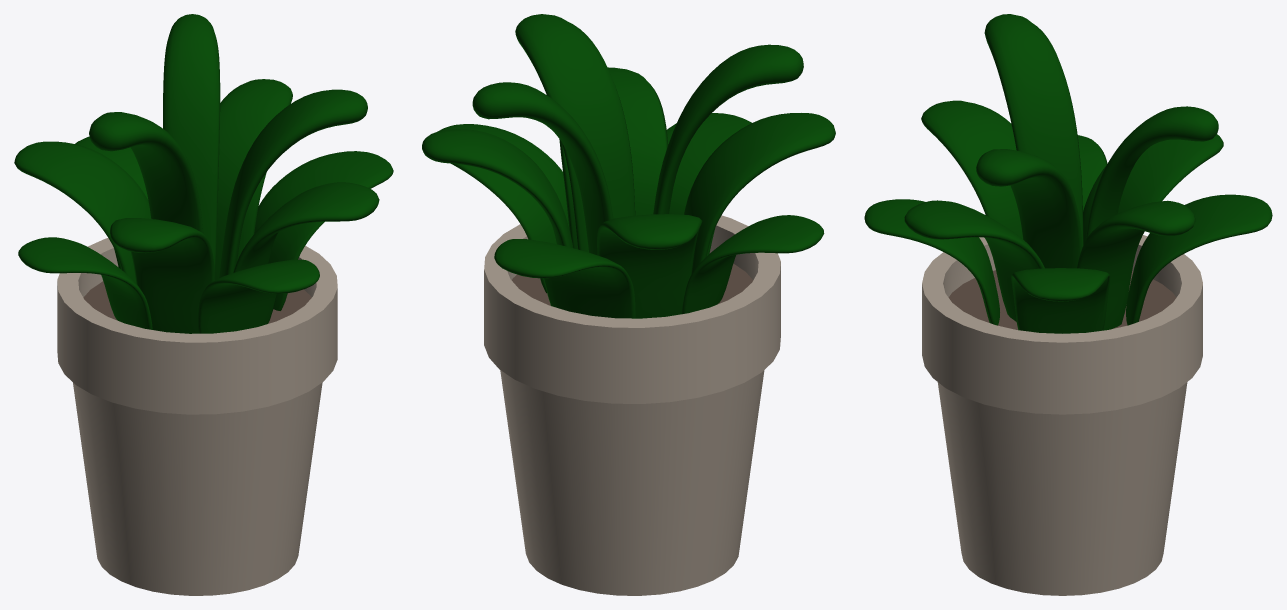
The model's file is Plante2_1.fbx.
The picture shows the model from 3 angles, left to right: view 1: azimuth 30°, elevation 25°; view 2: azimuth 150°, elevation 25°; view 3: azimuth 270°, elevation 25°; orthographic projection. The views are drawn at different scales.
Visible parts, largest first — view 1: pCylinder730, pCube1938, pCube1935, pCube1929, pCube1937, pCube1939, pCube1931, pCube1934, pCube1933, pCube1930, pCube1936, pCylinder731 (+1 smaller); view 2: pCylinder730, pCube1937, pCube1935, pCube1929, pCube1932, pCube1939, pCube1938, pCube1930, pCube1931, pCube1936, pCube1933, pCube1934 (+1 smaller); view 3: pCylinder730, pCube1939, pCube1937, pCube1933, pCube1935, pCube1932, pCube1931, pCube1930, pCube1938, pCube1929, pCube1934, pCylinder731 (+1 smaller).
Part boxes in pixels (<box>): pCylinder730: <box>57,238,337,595</box>; pCube1938: <box>163,14,220,278</box>; pCube1935: <box>110,218,214,333</box>; pCube1929: <box>14,141,151,282</box>; pCube1937: <box>219,89,367,277</box>; pCube1939: <box>89,112,203,233</box>; pCube1931: <box>215,79,292,280</box>; pCube1934: <box>198,259,319,333</box>; pCube1933: <box>254,151,393,310</box>; pCube1930: <box>233,182,379,272</box>; pCube1936: <box>18,237,152,329</box>; pCylinder731: <box>83,281,311,323</box>; pCylinder730: <box>484,215,780,595</box>; pCube1937: <box>515,14,635,252</box>; pCube1935: <box>684,113,835,274</box>; pCube1929: <box>597,214,702,318</box>; pCube1932: <box>494,239,635,318</box>; pCube1939: <box>653,44,803,214</box>; pCube1938: <box>472,82,613,254</box>; pCube1930: <box>559,67,668,249</box>; pCube1931: <box>422,129,573,247</box>; pCube1936: <box>681,215,824,314</box>; pCube1933: <box>438,124,569,293</box>; pCube1934: <box>666,113,751,256</box>; pCylinder730: <box>922,235,1202,595</box>; pCube1939: <box>984,14,1083,246</box>; pCube1937: <box>976,149,1082,268</box>; pCube1933: <box>1011,268,1110,333</box>; pCube1935: <box>921,100,1022,238</box>; pCube1932: <box>1126,194,1272,325</box>; pCube1931: <box>1077,200,1195,330</box>; pCube1930: <box>904,200,1044,321</box>; pCube1938: <box>1085,106,1218,240</box>; pCube1929: <box>1083,134,1223,244</box>; pCube1934: <box>864,199,999,325</box>; pCylinder731: <box>948,270,1176,329</box>.
Size of the model in its own units: 16.65 by 21.16 by 16.27.
